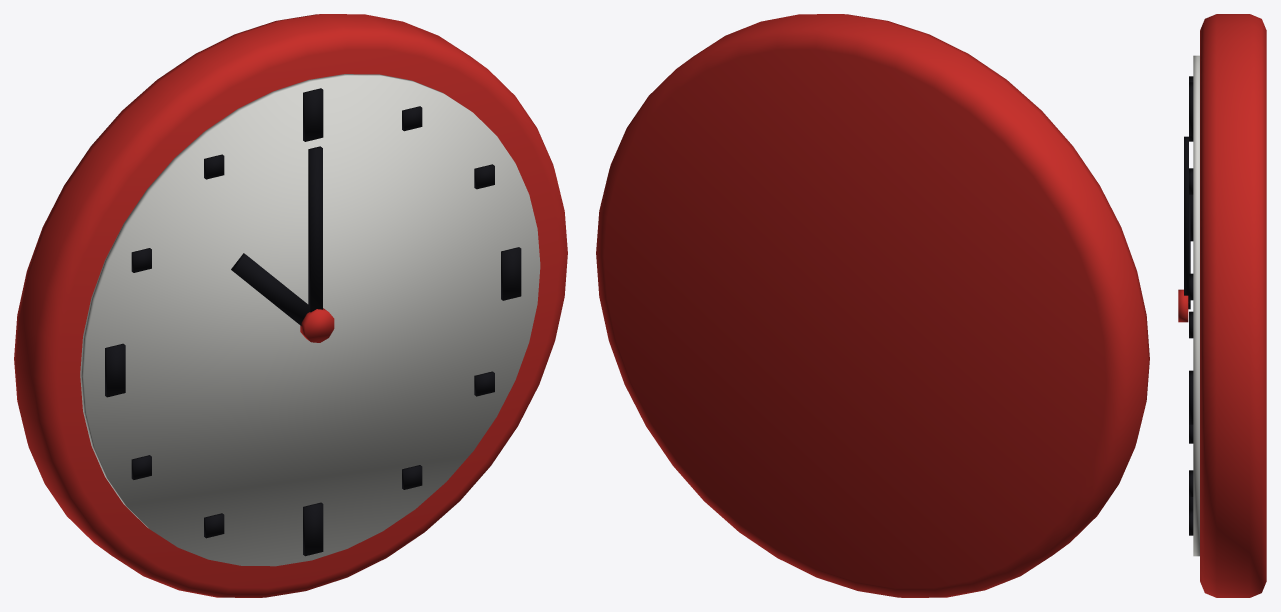
The model's file is wall_clock.glb.
The picture shows the model from 3 angles, left to right: view 1: azimuth 30°, elevation 25°; view 2: azimuth 150°, elevation 25°; view 3: azimuth 270°, elevation 25°; orthographic projection. The views are drawn at different scales.
Parts seen in each view (by area): view 1: wall_clock; view 2: wall_clock; view 3: wall_clock.
Boxes of the visible parts, x1,y1,x2,y2 form: wall_clock: (14, 14, 567, 597); wall_clock: (596, 14, 1149, 597); wall_clock: (1178, 14, 1266, 597).
Size of the model in its own units: 0.35 by 0.35 by 0.053.
